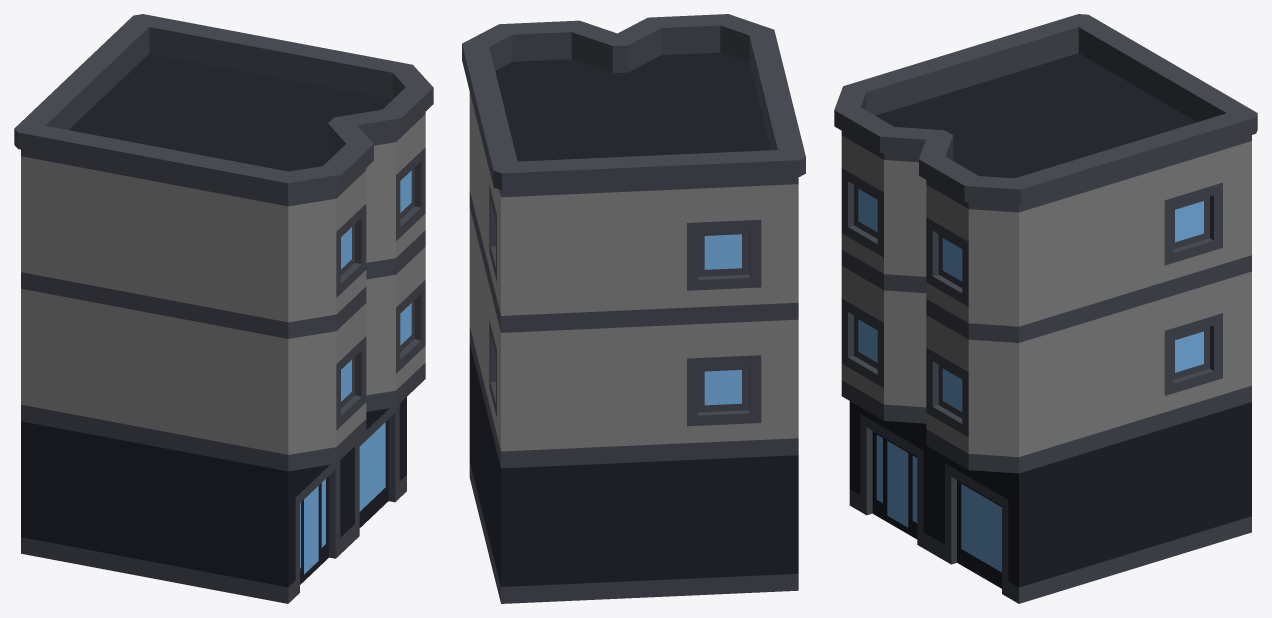
Rendered from variant_30.obj.
3 renders of one model, left to right at view 1: azimuth 30°, elevation 25°; view 2: azimuth 150°, elevation 25°; view 3: azimuth 270°, elevation 25°, orthographic. The views are drawn at different scales.
Parts seen in each view (by area): view 1: small_buildingA; view 2: small_buildingA; view 3: small_buildingA.
Part boxes in pixels (x1,y1,x2,y2): small_buildingA: [14, 14, 433, 603]; small_buildingA: [462, 14, 805, 603]; small_buildingA: [834, 14, 1257, 603].
Bounding box in the file's own units: 1.15 × 1.28 × 1.18.
